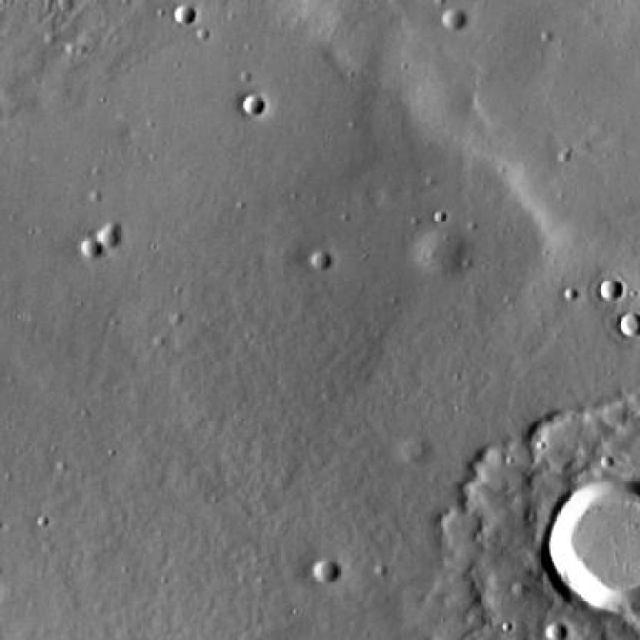crater: (0, 0, 640, 640), (547, 480, 640, 617), (414, 231, 468, 278), (396, 435, 427, 462), (310, 562, 338, 587), (436, 5, 464, 30), (74, 238, 100, 262), (91, 226, 117, 249), (593, 278, 618, 300), (302, 249, 327, 271), (240, 95, 262, 116), (620, 317, 640, 340), (172, 6, 193, 26), (540, 623, 560, 640)
